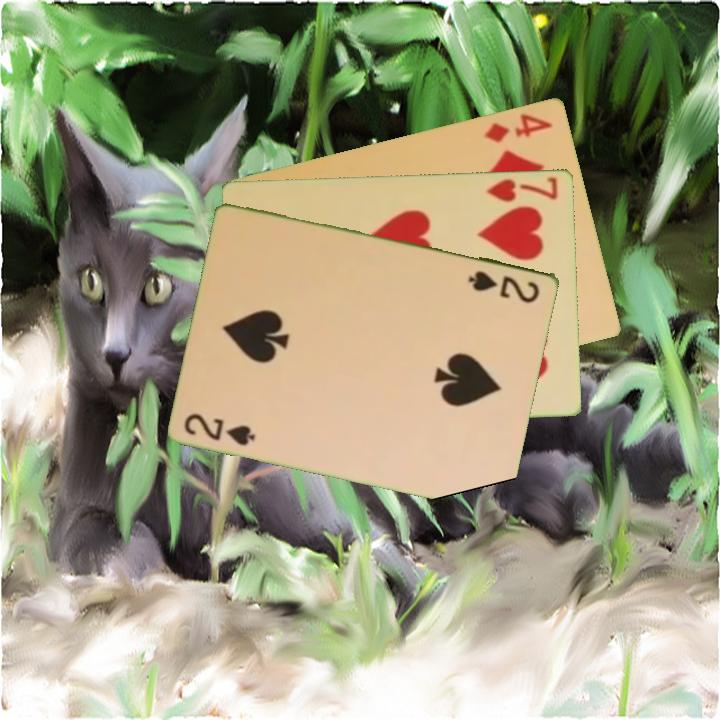2s: (465, 267, 543, 306), (181, 409, 259, 448)
4d: (480, 109, 556, 145)
7h: (483, 172, 561, 204)
